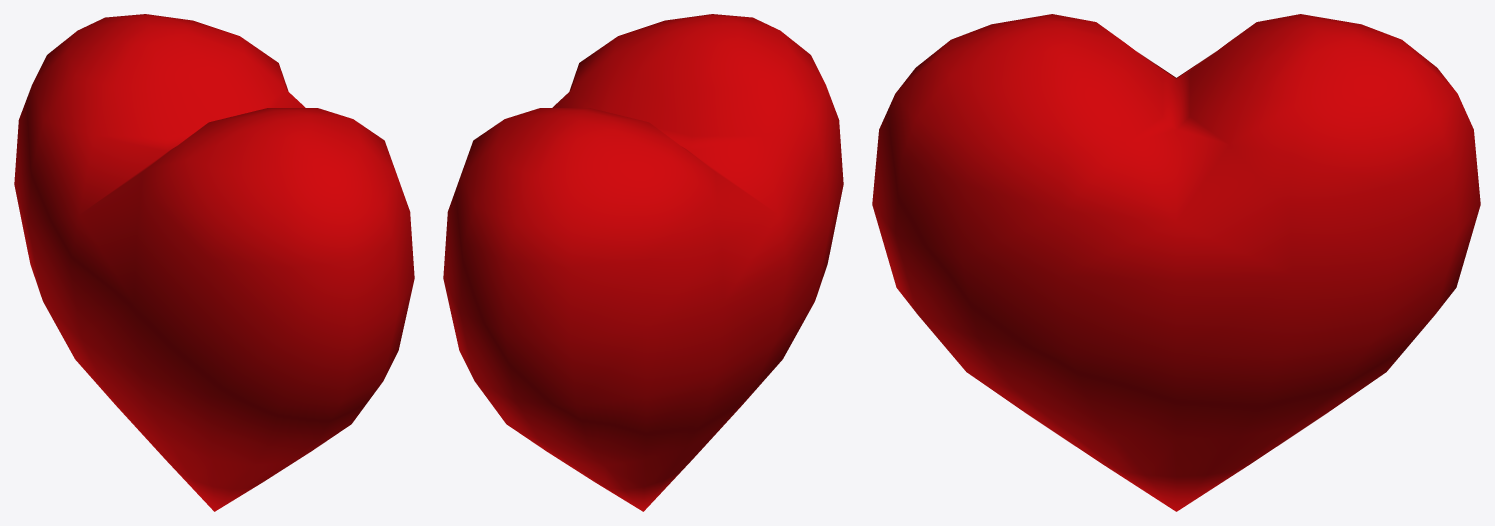
File: heart.obj
3 renders of one model, left to right at view 1: azimuth 30°, elevation 25°; view 2: azimuth 150°, elevation 25°; view 3: azimuth 270°, elevation 25°, orthographic. The views are drawn at different scales.
Parts seen in each view (by area): view 1: Sphere; view 2: Sphere; view 3: Sphere.
Boxes of the visible parts, box(x1,y1,x2,y2) form: Sphere: box(14, 14, 414, 511); Sphere: box(443, 14, 843, 511); Sphere: box(872, 14, 1480, 511).
Size of the model in its own units: 9.23 by 13.42 by 15.38.
